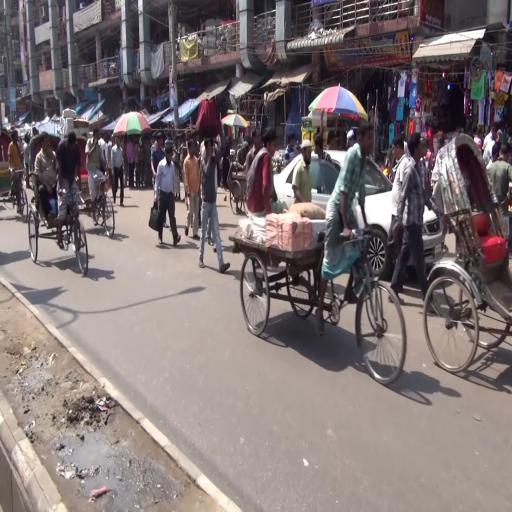car: (260, 147, 439, 276)
rickshaw: (424, 133, 512, 375), (26, 129, 91, 278), (79, 132, 118, 247), (1, 123, 32, 228)
wheelbarrow: (239, 227, 408, 383)
